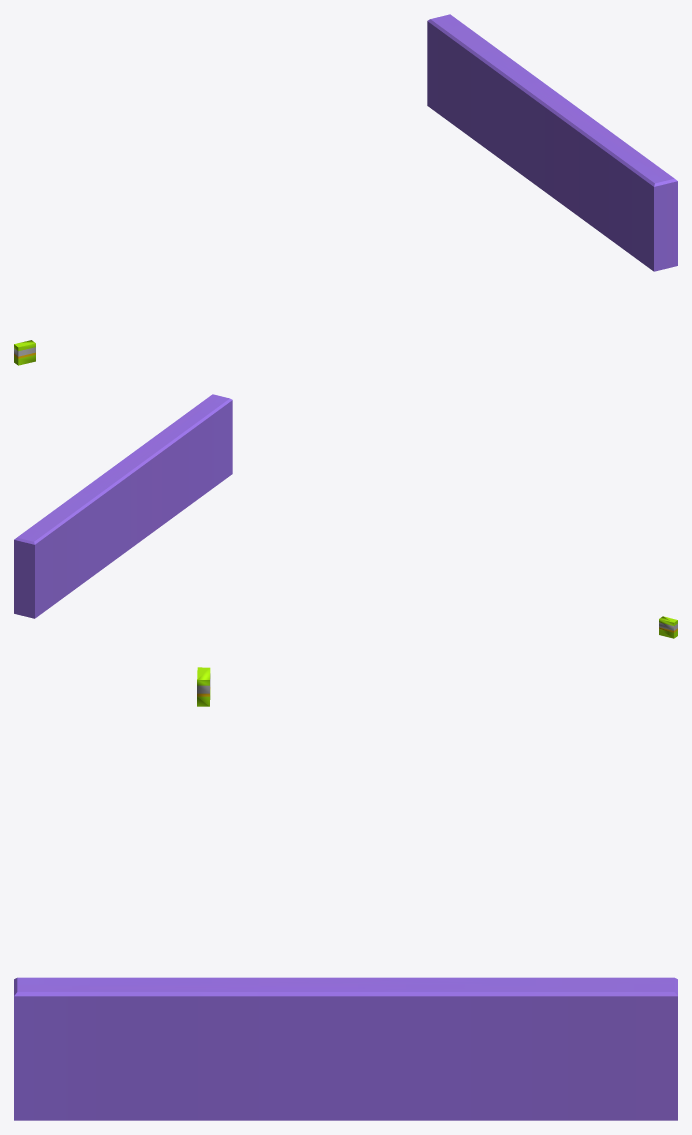
Rendered from goods.gltf.
3 views of the same model, one above another, from view 1: azimuth 30°, elevation 25°; view 2: azimuth 150°, elevation 25°; view 3: azimuth 270°, elevation 25° (orthographic). The views are drawn at different scales.
Parts seen in each view (by area): view 1: Wall_01; view 2: Wall_01; view 3: Wall_01.
Part boxes in pixels (x1=…): Wall_01: x1=427, y1=14, x2=677, y2=271; Wall_01: x1=14, y1=394, x2=232, y2=618; Wall_01: x1=14, y1=977, x2=677, y2=1120.
Bounding box in the file's own units: 12.3 × 1.71 × 8.1.
2 materials, 2 textured.
